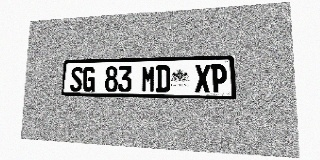3: (118, 66, 132, 92)
8: (104, 66, 118, 92)
D: (156, 65, 170, 92)
G: (82, 66, 95, 91)
M: (141, 65, 155, 92)
P: (211, 64, 227, 93)
S: (70, 66, 83, 91)
X: (195, 64, 210, 93)
